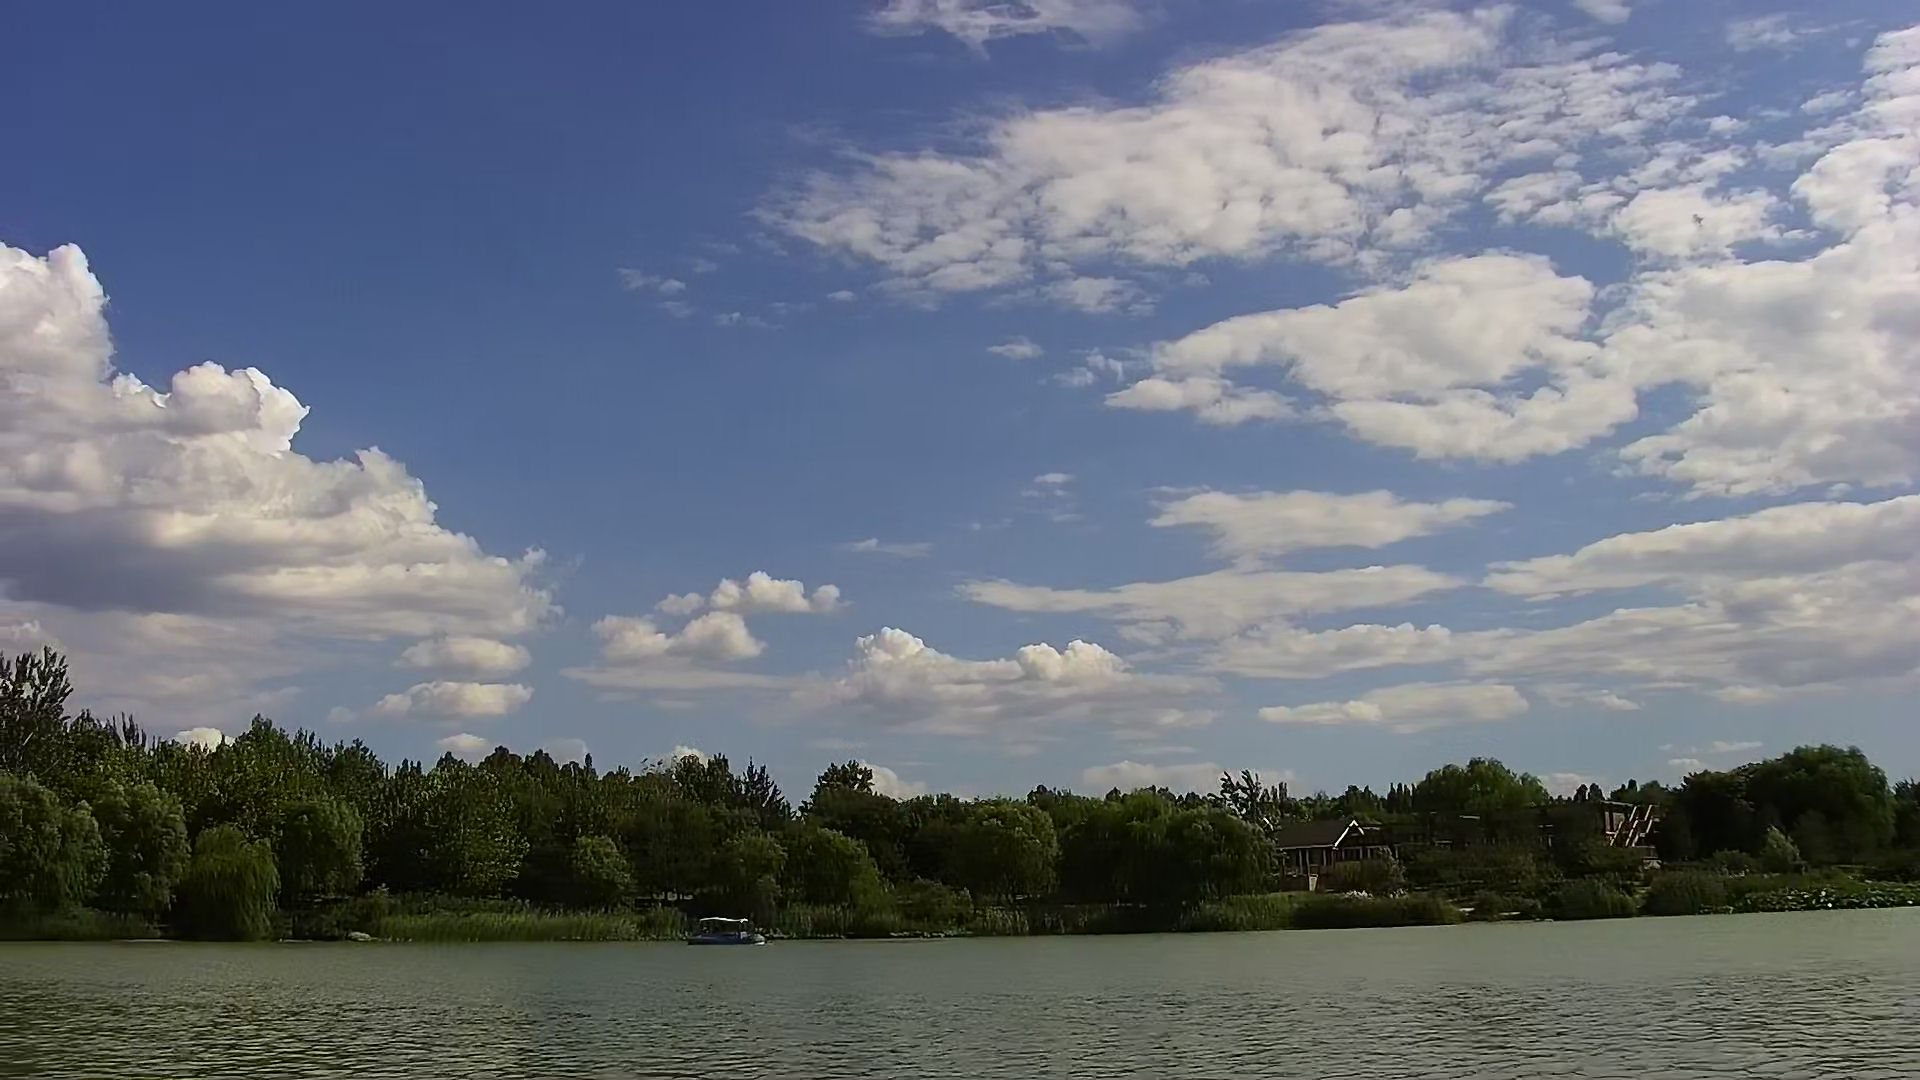boat: (678, 909, 773, 951)
